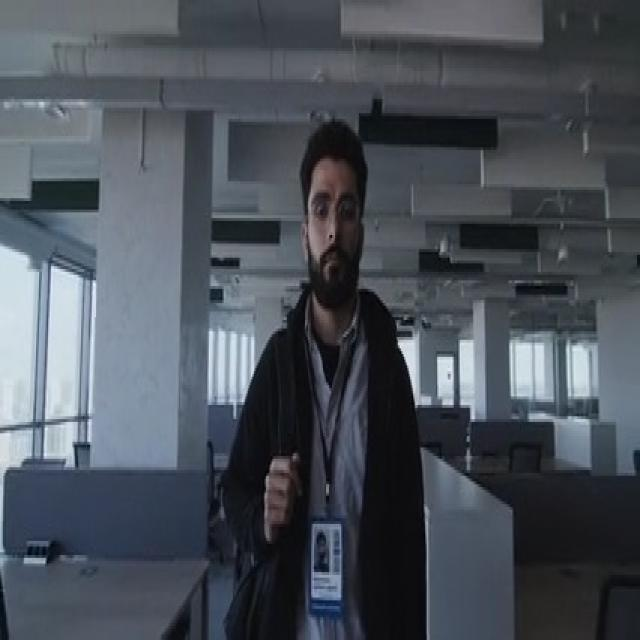Jacket_Wearer: (226, 275, 423, 640)
Person: (222, 109, 426, 640)
